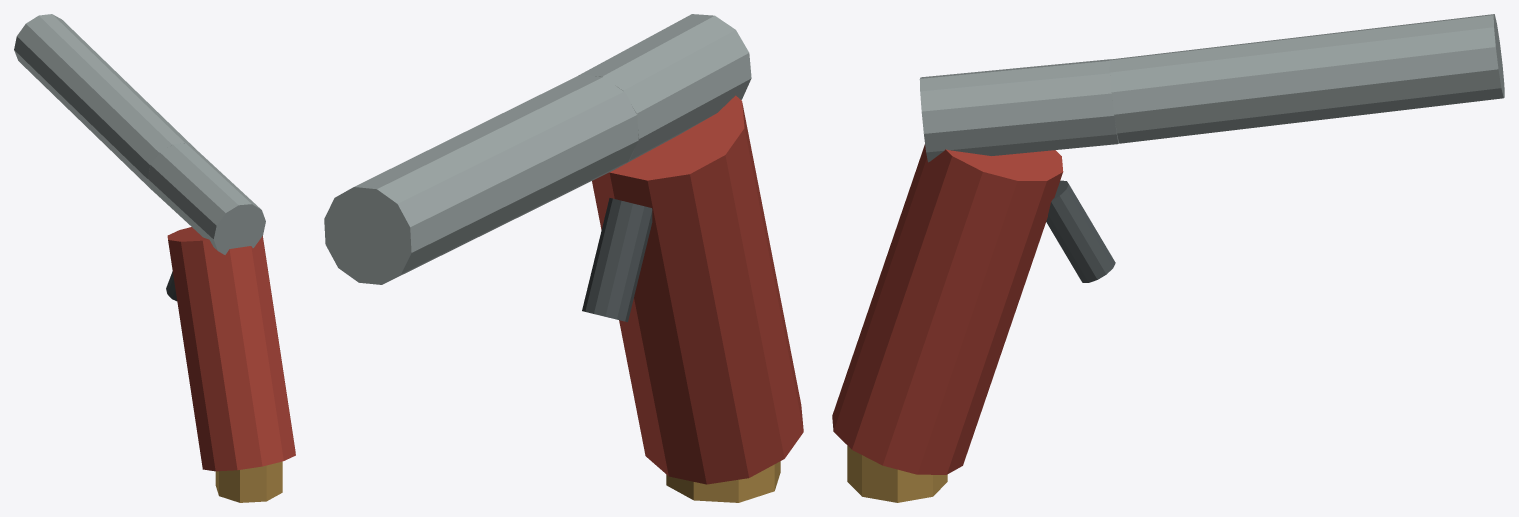
Rendered from TOOL_Sprayer.glb.
The picture shows the model from 3 angles, left to right: view 1: azimuth 30°, elevation 25°; view 2: azimuth 150°, elevation 25°; view 3: azimuth 270°, elevation 25°; orthographic projection. The views are drawn at different scales.
Visible parts, largest first — view 1: Grip, Barrel, Coupler; view 2: Grip, Barrel, Trigger, Coupler; view 3: Barrel, Grip, Trigger, Coupler.
Boxes of the visible parts, x1,y1,x2,y2 form: Grip: (167,227,295,471); Barrel: (14,14,265,254); Coupler: (215,461,282,502); Grip: (592,95,803,484); Barrel: (324,14,751,284); Trigger: (582,198,652,322); Coupler: (666,461,780,502); Barrel: (919,14,1504,162); Grip: (832,144,1063,474); Trigger: (1046,180,1115,282); Coupler: (847,445,947,502).
Bounding box in the file's own units: 0.041 × 0.1533 × 0.2012.
